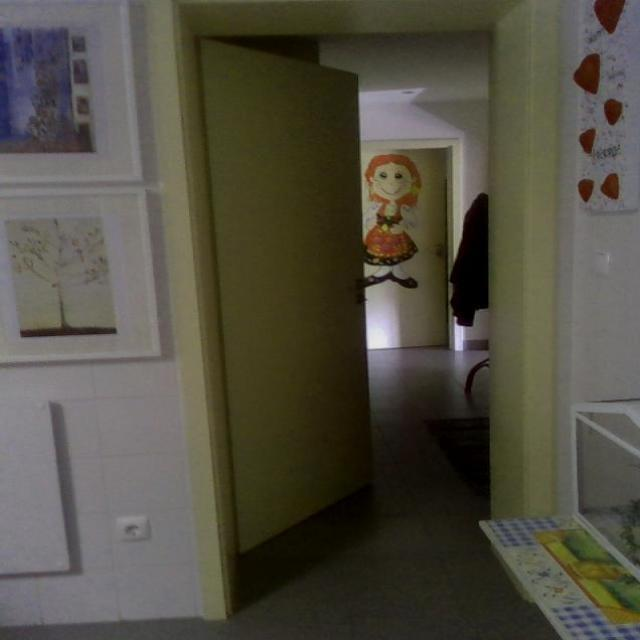door: (194, 35, 374, 554)
